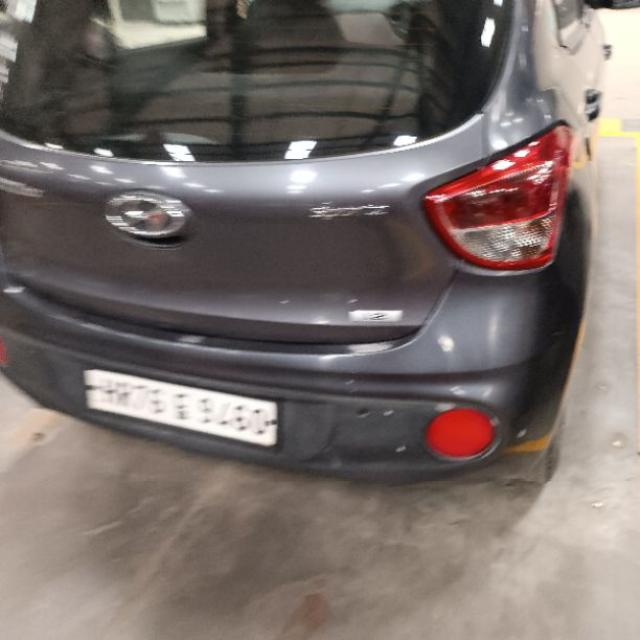license_plate: (80, 365, 280, 449)
